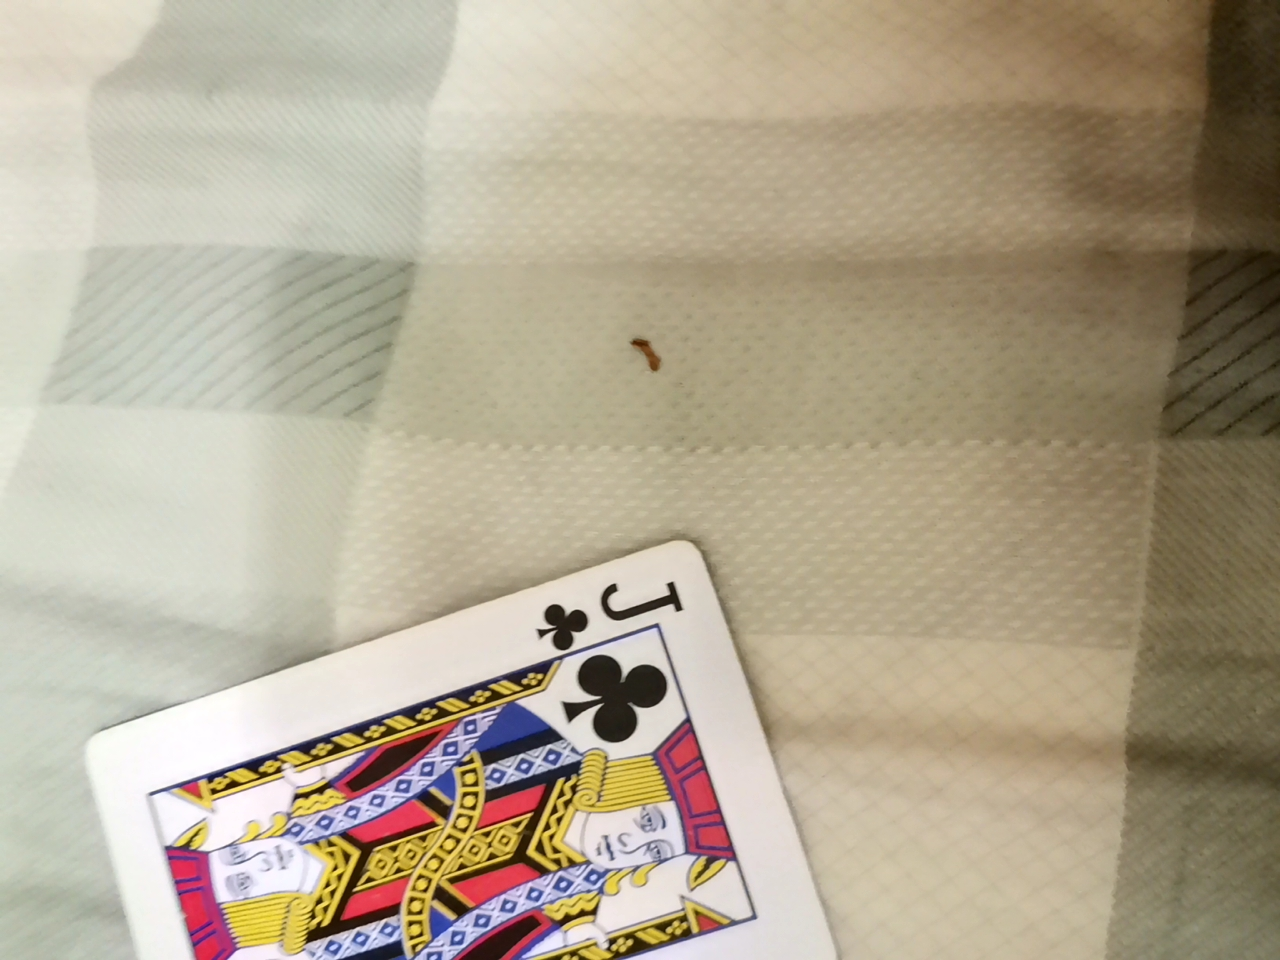mh j: (73, 547, 855, 956)
